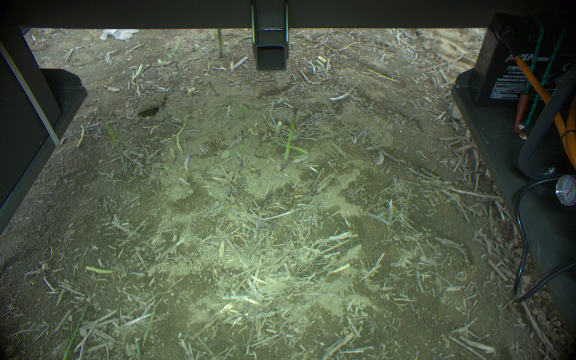aspa: (281, 105, 299, 170), (270, 137, 309, 156), (273, 117, 284, 142), (216, 28, 223, 57)
